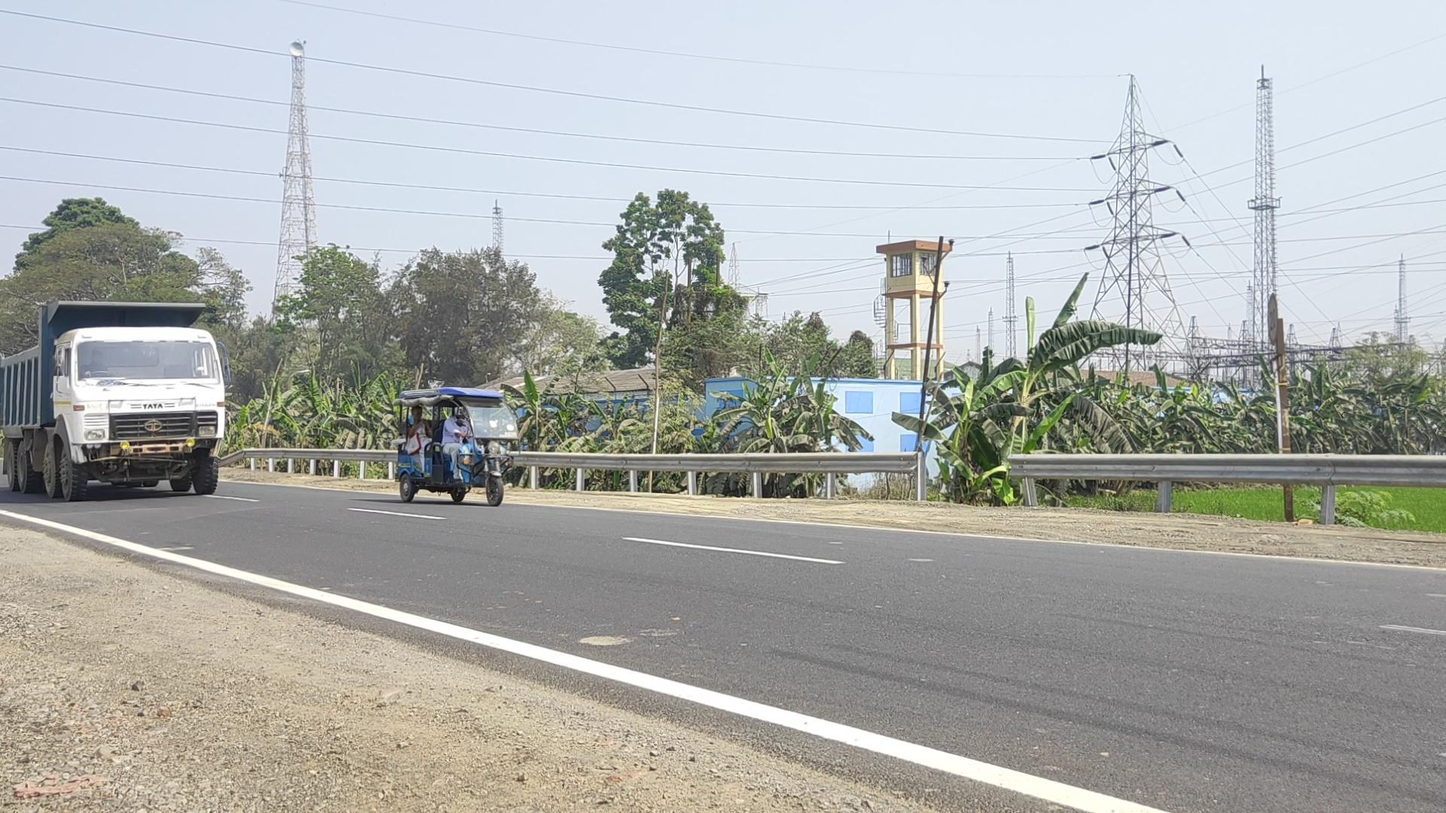Auto: (395, 386, 521, 506)
truck: (1, 300, 230, 502)
